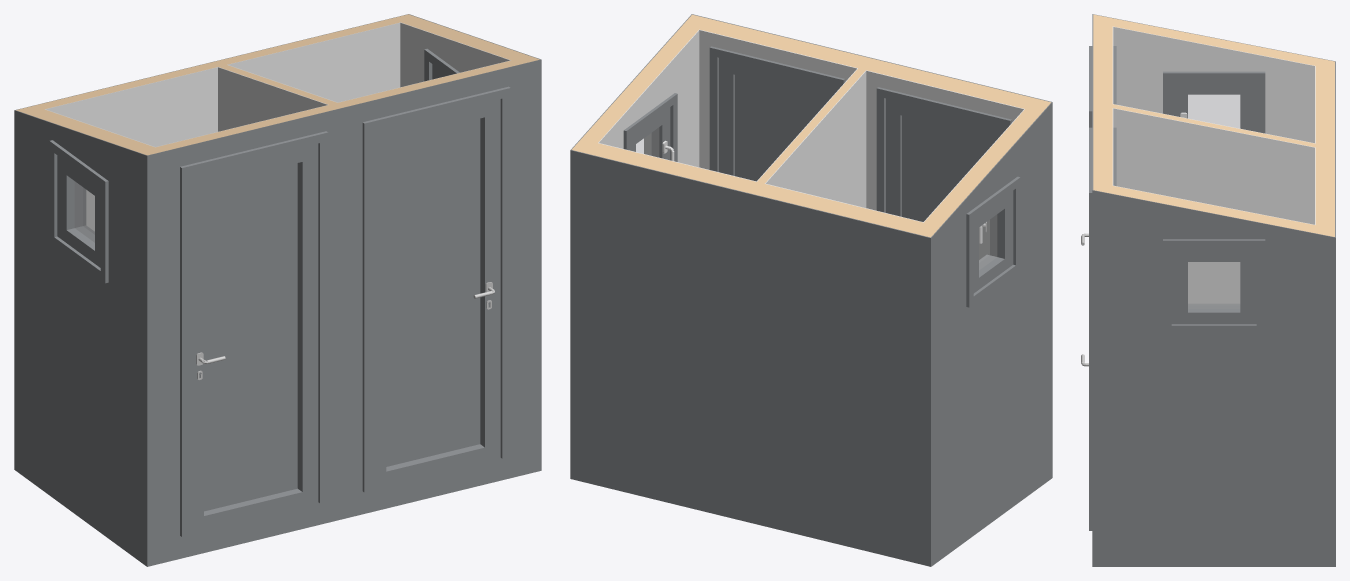
The model's file is povilas.grazevicius@gmail.fbx.
The picture shows the model from 3 angles, left to right: view 1: azimuth 30°, elevation 25°; view 2: azimuth 150°, elevation 25°; view 3: azimuth 270°, elevation 25°; orthographic projection. The views are drawn at different scales.
Parts seen in each view (by area): view 1: IfcDoor/Durys išorinės:800x2100x120 (kairinės nepermatomos):, IfcDoor/Durys išorinės:800x2100x120 (dešininės nepermatomos, IfcWall/Part:2319977, IfcWall/Part:2368366, IfcWall/Part:2319982, IfcWindow/Langai (Akrusta):500x500x120:2430812, IfcWall/Part:2319968, IfcWall/Part:2319979, IfcWall/Part:2319984, IfcWall/Part:2319978, IfcWall/Part:2368367, IfcWall/Part:2319981 (+2 smaller); view 2: IfcWall/Part:2319983, IfcWall/Part:2368366, IfcDoor/Durys išorinės:800x2100x120 (dešininės nepermatomos, IfcDoor/Durys išorinės:800x2100x120 (kairinės nepermatomos):, IfcWall/Part:2319976, IfcWall/Part:2319968, IfcWindow/Langai (Akrusta):500x500x120:2430812, IfcWall/Part:2319978, IfcWall/Part:2319984, IfcWall/Part:2319979, IfcWindow/Langai (Akrusta):500x500x120:2435098, IfcWall/Part:2368367 (+3 smaller); view 3: IfcWall/Part:2319980, IfcWall/Part:2319967, IfcWall/Part:2368365, IfcWindow/Langai (Akrusta):500x500x120:2435098, IfcWindow/Langai (Akrusta):500x500x120:2430812, IfcWall/Part:2319978, IfcWall/Part:2319984, IfcDoor/Durys išorinės:800x2100x120 (kairinės nepermatomos):, IfcWall/Part:2368367, IfcWall/Part:2319981, IfcWall/Part:2319977, IfcWall/Part:2319969 (+2 smaller).
Boxes of the visible parts, x1,y1,x2,y2 form: IfcDoor/Durys išorinės:800x2100x120 (kairinės nepermatomos):: (362, 86, 510, 492); IfcDoor/Durys išorinės:800x2100x120 (dešininės nepermatomos: (180, 131, 328, 536); IfcWall/Part:2319977: (146, 59, 541, 566); IfcWall/Part:2368366: (14, 110, 146, 566); IfcWall/Part:2319982: (45, 22, 400, 231); IfcWindow/Langai (Akrusta):500x500x120:2430812: (49, 140, 108, 283); IfcWall/Part:2319968: (218, 67, 328, 131); IfcWall/Part:2319979: (400, 22, 510, 87); IfcWall/Part:2319984: (16, 14, 418, 113); IfcWall/Part:2319978: (137, 56, 539, 155); IfcWall/Part:2368367: (26, 109, 154, 151); IfcWall/Part:2319981: (401, 18, 528, 60); IfcWall/Part:2319983: (570, 150, 931, 566); IfcWall/Part:2368366: (931, 102, 1052, 565); IfcDoor/Durys išorinės:800x2100x120 (dešininės nepermatomos: (876, 87, 1011, 259); IfcDoor/Durys išorinės:800x2100x120 (kairinės nepermatomos):: (709, 46, 845, 181); IfcWall/Part:2319976: (699, 29, 1024, 210); IfcWall/Part:2319968: (765, 71, 866, 207); IfcWindow/Langai (Akrusta):500x500x120:2430812: (966, 176, 1020, 307); IfcWall/Part:2319978: (682, 14, 1050, 112); IfcWall/Part:2319984: (572, 139, 939, 237); IfcWall/Part:2319979: (598, 30, 699, 167); IfcWindow/Langai (Akrusta):500x500x120:2435098: (623, 93, 677, 161); IfcWall/Part:2368367: (924, 109, 1041, 226); IfcWall/Part:2319980: (1093, 190, 1334, 566); IfcWall/Part:2319967: (1113, 108, 1314, 303); IfcWall/Part:2368365: (1113, 26, 1314, 142); IfcWindow/Langai (Akrusta):500x500x120:2435098: (1163, 239, 1265, 333); IfcWindow/Langai (Akrusta):500x500x120:2430812: (1163, 71, 1265, 133); IfcWall/Part:2319978: (1093, 14, 1112, 193); IfcWall/Part:2319984: (1315, 58, 1334, 236); IfcDoor/Durys išorinės:800x2100x120 (kairinės nepermatomos):: (1089, 127, 1116, 530); IfcWall/Part:2368367: (1112, 18, 1315, 65); IfcWall/Part:2319981: (1112, 186, 1315, 233); IfcWall/Part:2319977: (1092, 14, 1093, 566); IfcWall/Part:2319969: (1112, 104, 1315, 147).
Bounding box in the file's own units: 244 × 240 × 147.
